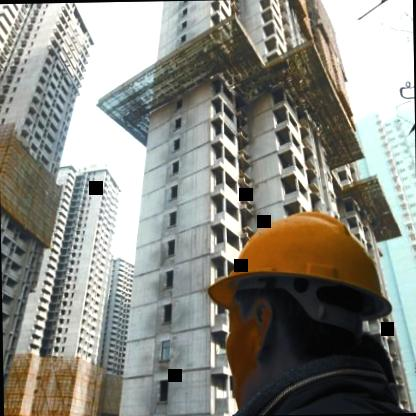helmet: (190, 183, 406, 403)
